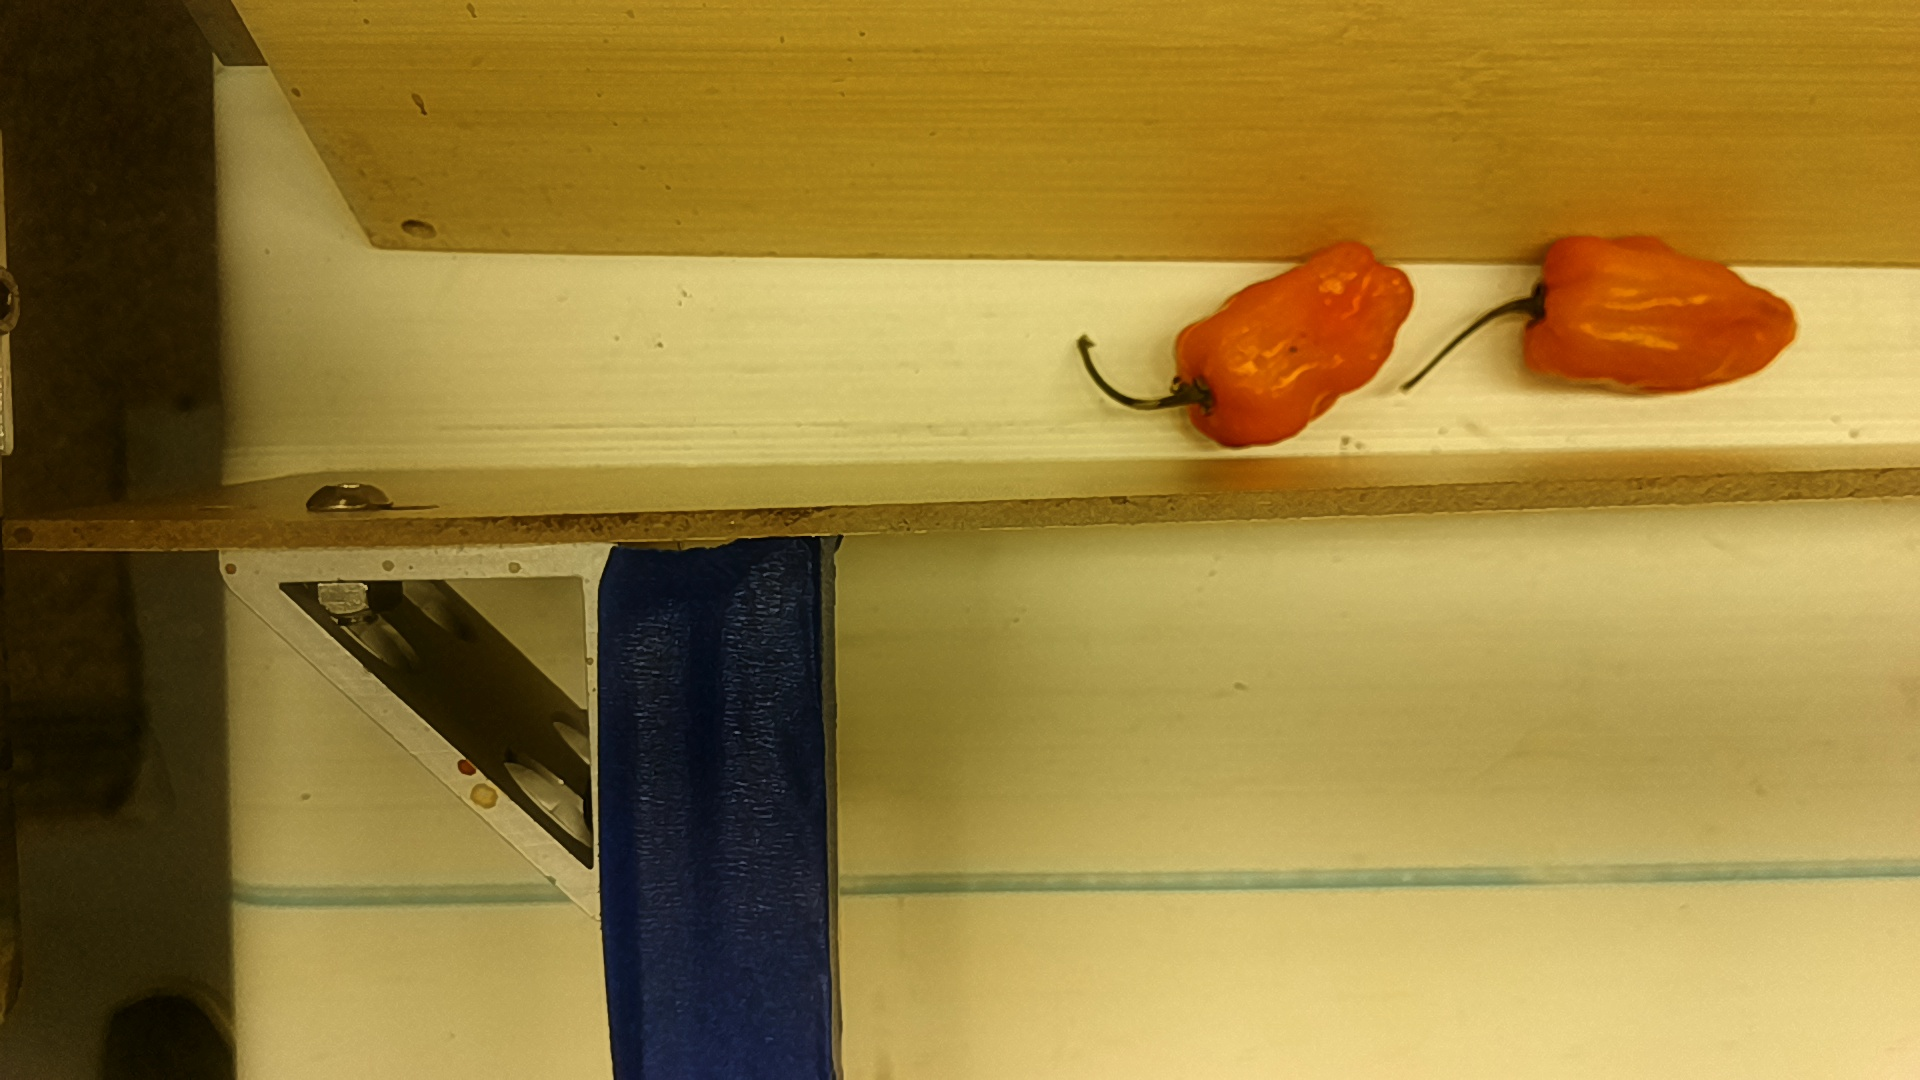Cut Point: (1516, 232, 1578, 384), (1178, 311, 1241, 450)
